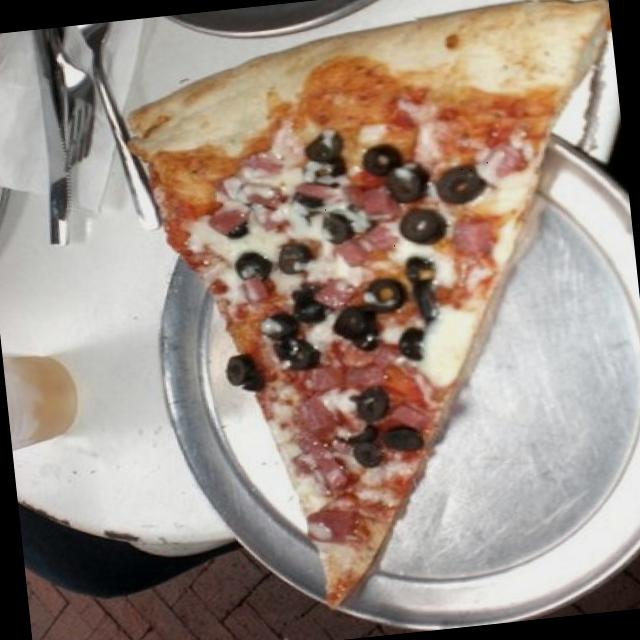Olive: (326, 386, 424, 486), (309, 276, 410, 362), (291, 174, 369, 269), (349, 128, 433, 216), (230, 238, 318, 306), (258, 305, 320, 378), (298, 122, 360, 195), (397, 243, 448, 331), (428, 158, 494, 225), (382, 198, 450, 246), (216, 349, 264, 399)
pizza: (128, 0, 602, 605)
